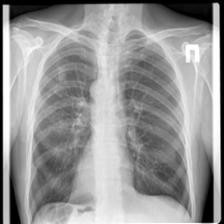tuberculosis: (23, 24, 198, 223)
